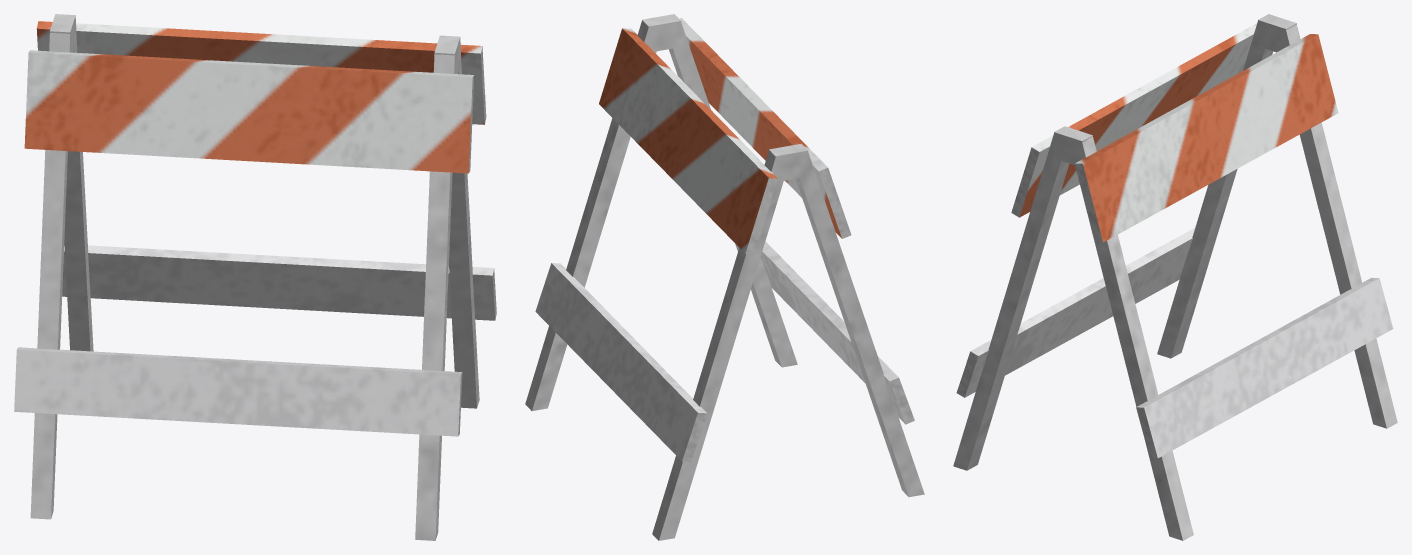
The model's file is A_Barricade_Safety.fbx.
The picture shows the model from 3 angles, left to right: view 1: azimuth 30°, elevation 25°; view 2: azimuth 150°, elevation 25°; view 3: azimuth 270°, elevation 25°; orthographic projection. The views are drawn at different scales.
Visible parts, largest first — view 1: A_Barricade_Safety; view 2: A_Barricade_Safety; view 3: A_Barricade_Safety.
Boxes of the visible parts, x1,y1,x2,y2 form: A_Barricade_Safety: (14, 14, 496, 540); A_Barricade_Safety: (525, 14, 924, 540); A_Barricade_Safety: (953, 14, 1397, 540).
Bounding box in the file's own units: 105 × 92.04 × 101.
